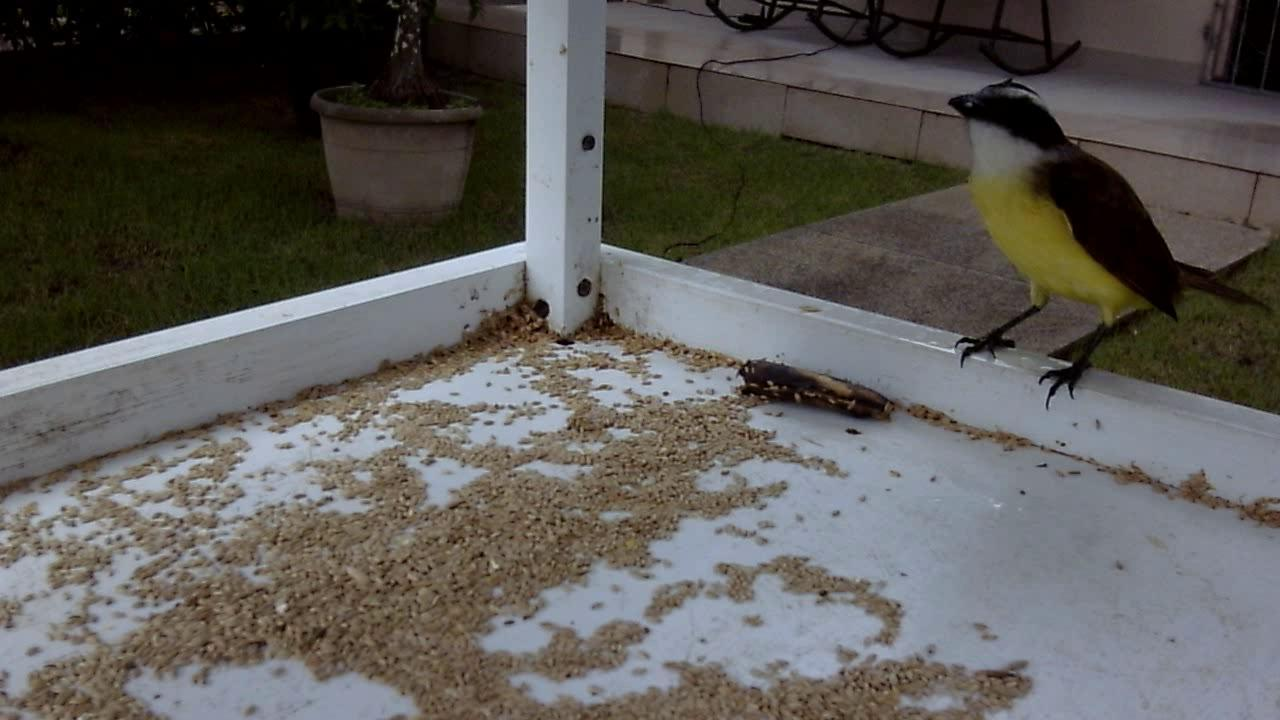bem_te_vi: (911, 67, 1275, 420)
